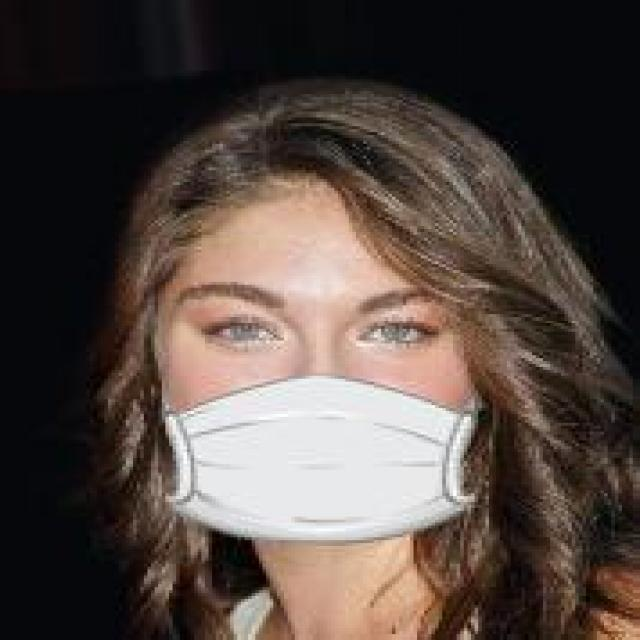mask: (83, 109, 572, 593)
